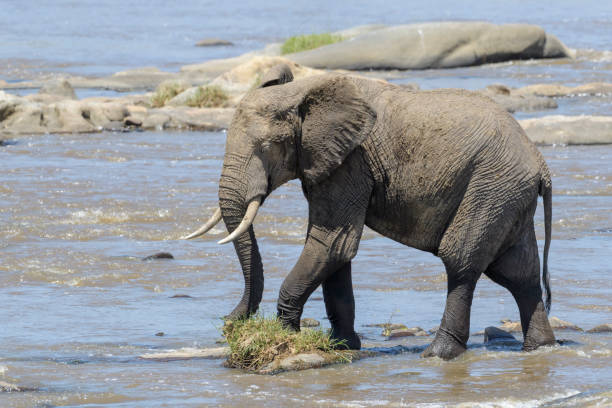africanelephant: (203, 62, 377, 267)
